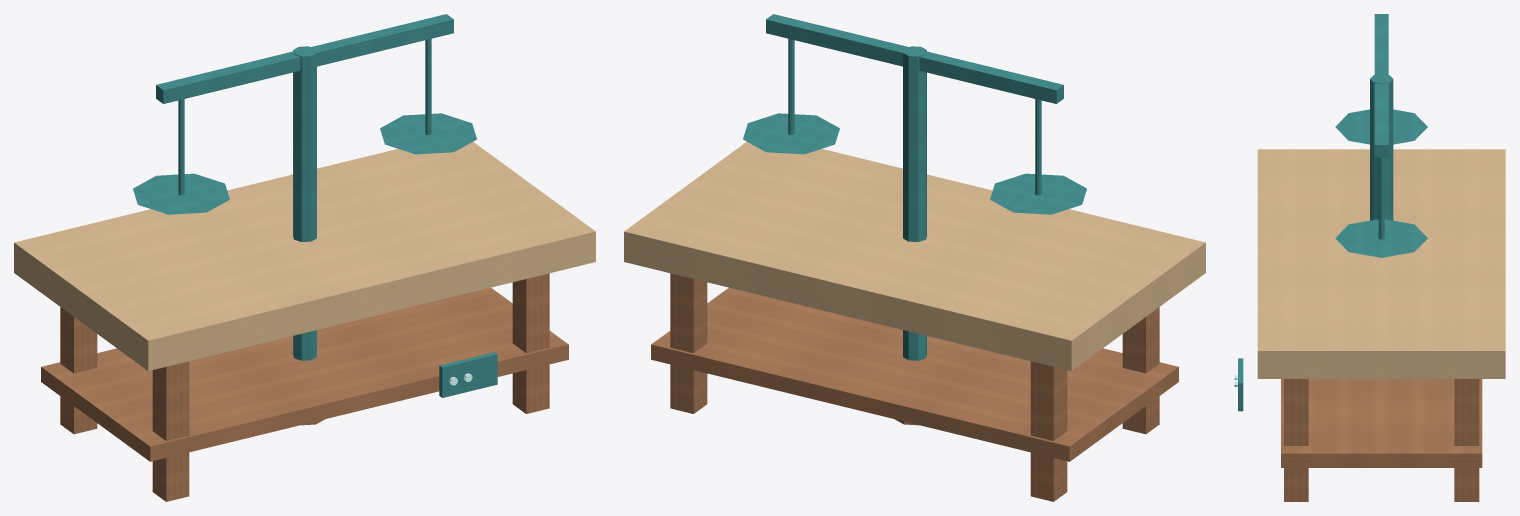
File: atlas100-s091-a02.glb
3 views of the same model, side by side, from view 1: azimuth 30°, elevation 25°; view 2: azimuth 150°, elevation 25°; view 3: azimuth 270°, elevation 25° (orthographic). The views are drawn at different scales.
Visible parts, largest first — view 1: atlas100-s091-a02:part-004, atlas100-s091-a02:part-005, atlas100-s091-a02:part-008, atlas100-s091-a02:part-006, atlas100-s091-a02:part-003, atlas100-s091-a02:part-001, atlas100-s091-a02:part-010, atlas100-s091-a02:part-012, atlas100-s091-a02:part-000, atlas100-s091-a02:part-013, atlas100-s091-a02:part-009, atlas100-s091-a02:part-011; view 2: atlas100-s091-a02:part-004, atlas100-s091-a02:part-005, atlas100-s091-a02:part-008, atlas100-s091-a02:part-006, atlas100-s091-a02:part-002, atlas100-s091-a02:part-000, atlas100-s091-a02:part-010, atlas100-s091-a02:part-012, atlas100-s091-a02:part-001, atlas100-s091-a02:part-009, atlas100-s091-a02:part-011; view 3: atlas100-s091-a02:part-004, atlas100-s091-a02:part-005, atlas100-s091-a02:part-002, atlas100-s091-a02:part-012, atlas100-s091-a02:part-003, atlas100-s091-a02:part-006, atlas100-s091-a02:part-008, atlas100-s091-a02:part-010, atlas100-s091-a02:part-011, atlas100-s091-a02:part-013.
Part boxes in pixels (bbox=[...]): atlas100-s091-a02:part-004: bbox=[14, 142, 595, 370]; atlas100-s091-a02:part-005: bbox=[41, 287, 568, 461]; atlas100-s091-a02:part-008: bbox=[156, 14, 453, 103]; atlas100-s091-a02:part-006: bbox=[293, 46, 316, 360]; atlas100-s091-a02:part-003: bbox=[512, 273, 549, 413]; atlas100-s091-a02:part-001: bbox=[152, 361, 189, 501]; atlas100-s091-a02:part-010: bbox=[133, 173, 229, 214]; atlas100-s091-a02:part-012: bbox=[380, 113, 476, 154]; atlas100-s091-a02:part-000: bbox=[60, 307, 97, 434]; atlas100-s091-a02:part-013: bbox=[439, 352, 497, 397]; atlas100-s091-a02:part-009: bbox=[178, 99, 184, 195]; atlas100-s091-a02:part-011: bbox=[425, 38, 431, 135]; atlas100-s091-a02:part-004: bbox=[624, 142, 1205, 370]; atlas100-s091-a02:part-005: bbox=[651, 287, 1178, 461]; atlas100-s091-a02:part-008: bbox=[766, 14, 1063, 103]; atlas100-s091-a02:part-006: bbox=[903, 46, 926, 360]; atlas100-s091-a02:part-002: bbox=[670, 273, 707, 413]; atlas100-s091-a02:part-000: bbox=[1030, 361, 1067, 501]; atlas100-s091-a02:part-010: bbox=[990, 173, 1086, 214]; atlas100-s091-a02:part-012: bbox=[743, 113, 839, 154]; atlas100-s091-a02:part-001: bbox=[1122, 307, 1159, 434]; atlas100-s091-a02:part-009: bbox=[1035, 99, 1041, 195]; atlas100-s091-a02:part-011: bbox=[788, 38, 794, 135]; atlas100-s091-a02:part-004: bbox=[1257, 149, 1505, 378]; atlas100-s091-a02:part-005: bbox=[1281, 379, 1482, 467]; atlas100-s091-a02:part-002: bbox=[1454, 379, 1479, 501]; atlas100-s091-a02:part-012: bbox=[1335, 219, 1427, 257]; atlas100-s091-a02:part-003: bbox=[1284, 379, 1308, 501]; atlas100-s091-a02:part-006: bbox=[1370, 74, 1393, 220]; atlas100-s091-a02:part-008: bbox=[1374, 14, 1388, 157]; atlas100-s091-a02:part-010: bbox=[1335, 109, 1427, 144]; atlas100-s091-a02:part-011: bbox=[1378, 157, 1384, 239]; atlas100-s091-a02:part-013: bbox=[1238, 358, 1243, 411].
Bounding box in the file's own units: 3.08 × 2.4 × 1.75.
Materials: 4 (4 with a texture image).
